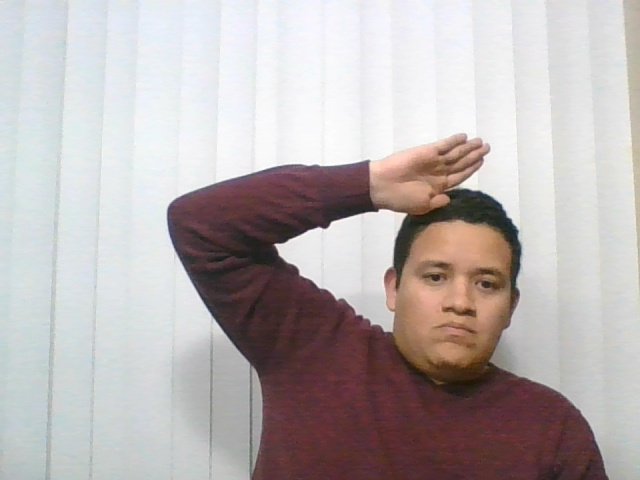Dad: (338, 107, 530, 239)
